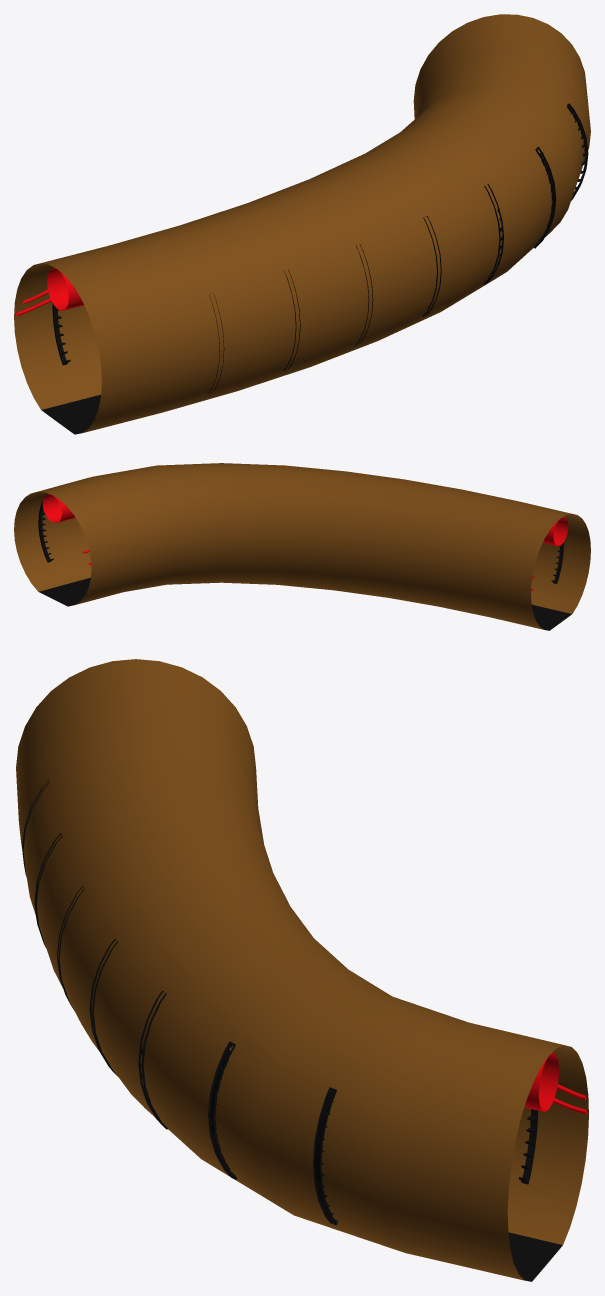
File: tunnel.fbx
3 views of the same model, one above another, from view 1: azimuth 30°, elevation 25°; view 2: azimuth 150°, elevation 25°; view 3: azimuth 270°, elevation 25° (orthographic). The views are drawn at different scales.
Parts seen in each view (by area): view 1: Tunnel.004; view 2: Tunnel.004; view 3: Tunnel.004.
Boxes of the visible parts, <box> form: Tunnel.004: <box>14,14,590,434</box>; Tunnel.004: <box>14,463,590,630</box>; Tunnel.004: <box>16,659,588,1281</box>.
Size of the model in its own units: 3494 by 774 by 1909.
